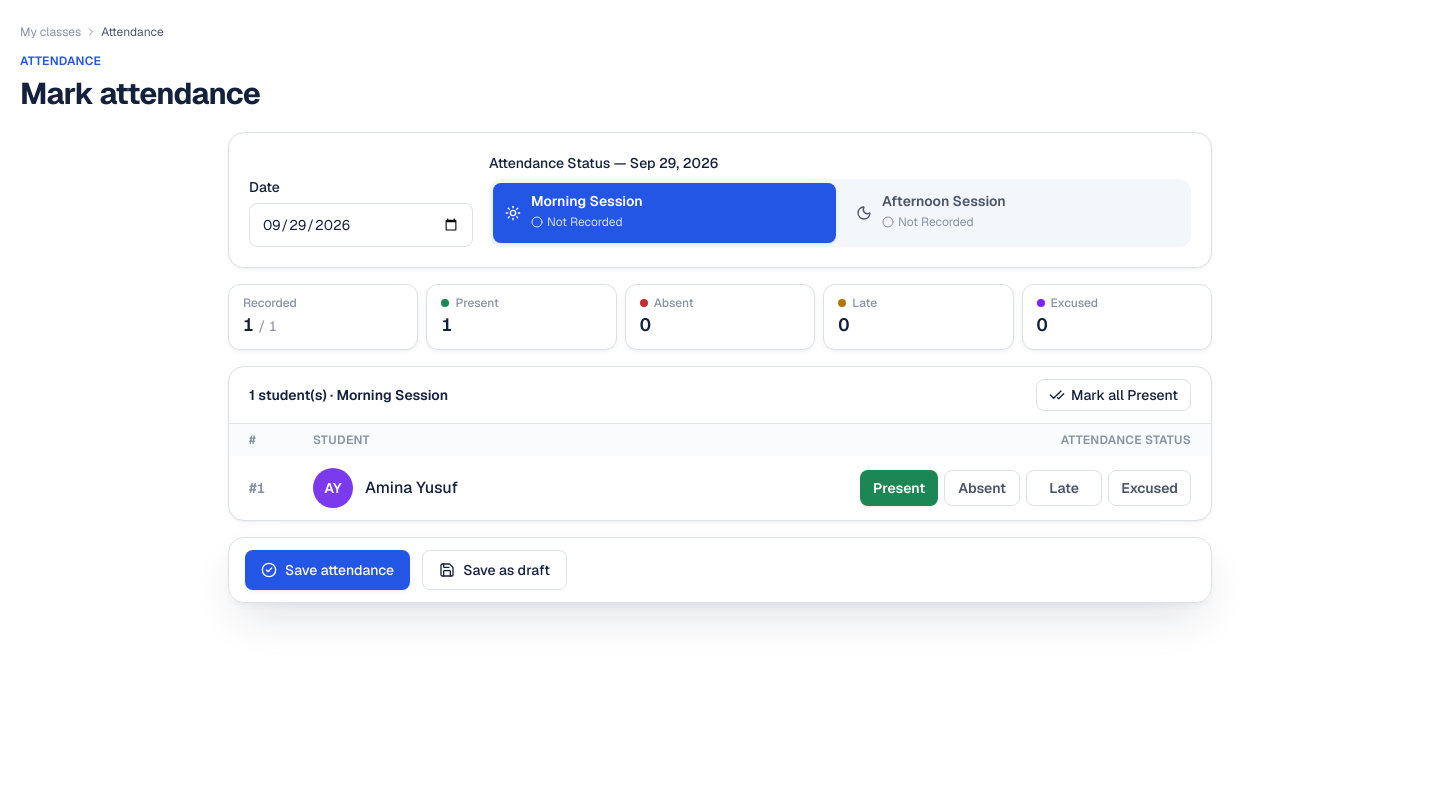
Test case: AttendancePage — session selection › switching sessions while dirty goes through the same unsaved-changes dialog as changing date
This screenshot has width=1440, height=810.
Expected: the text "Yusuf" is shown, [416, 477, 458, 498]
Click the button "Absent" at (982, 488), box [944, 470, 1020, 506]
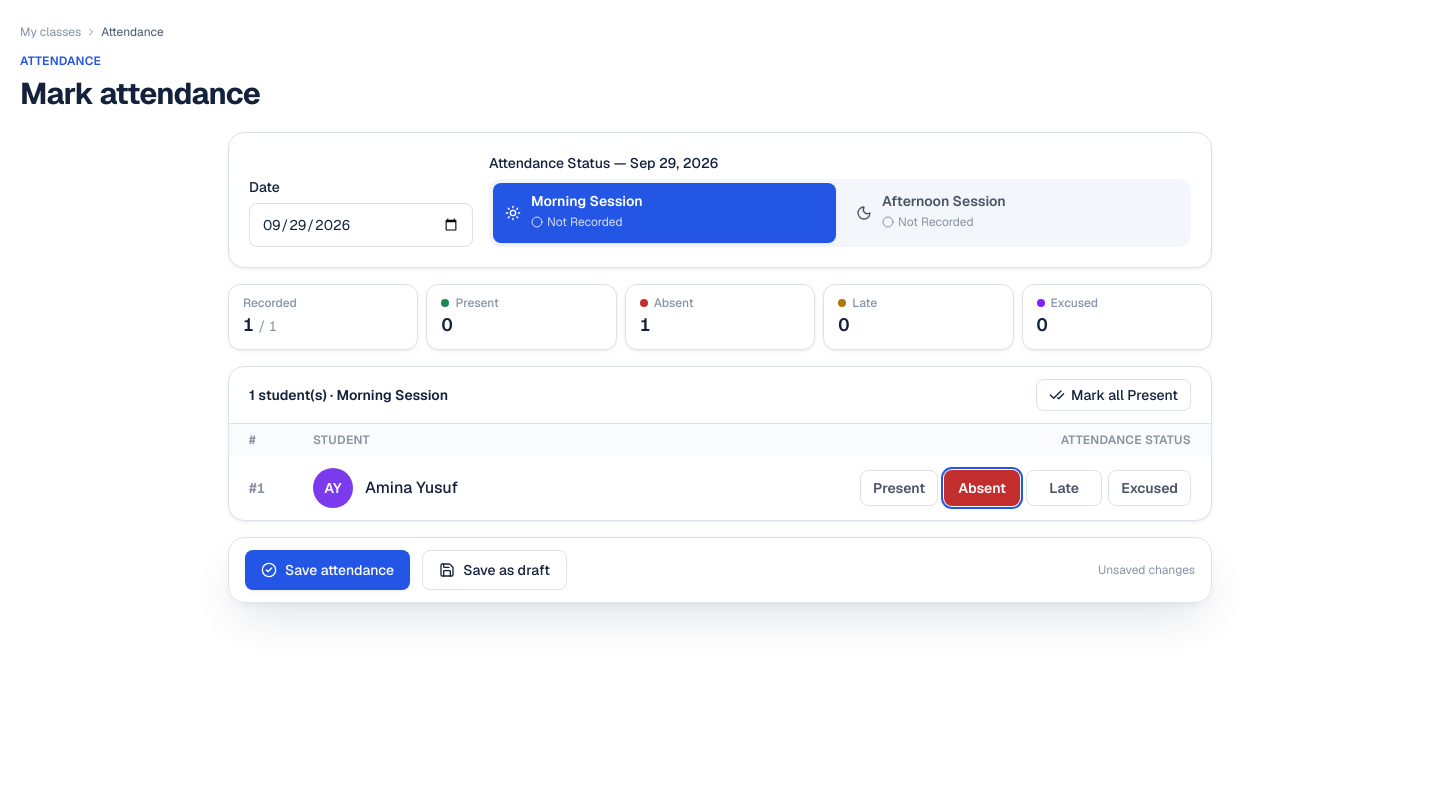
Click the radio button labelled "Afternoon Session" at (944, 201), box [844, 183, 1187, 243]
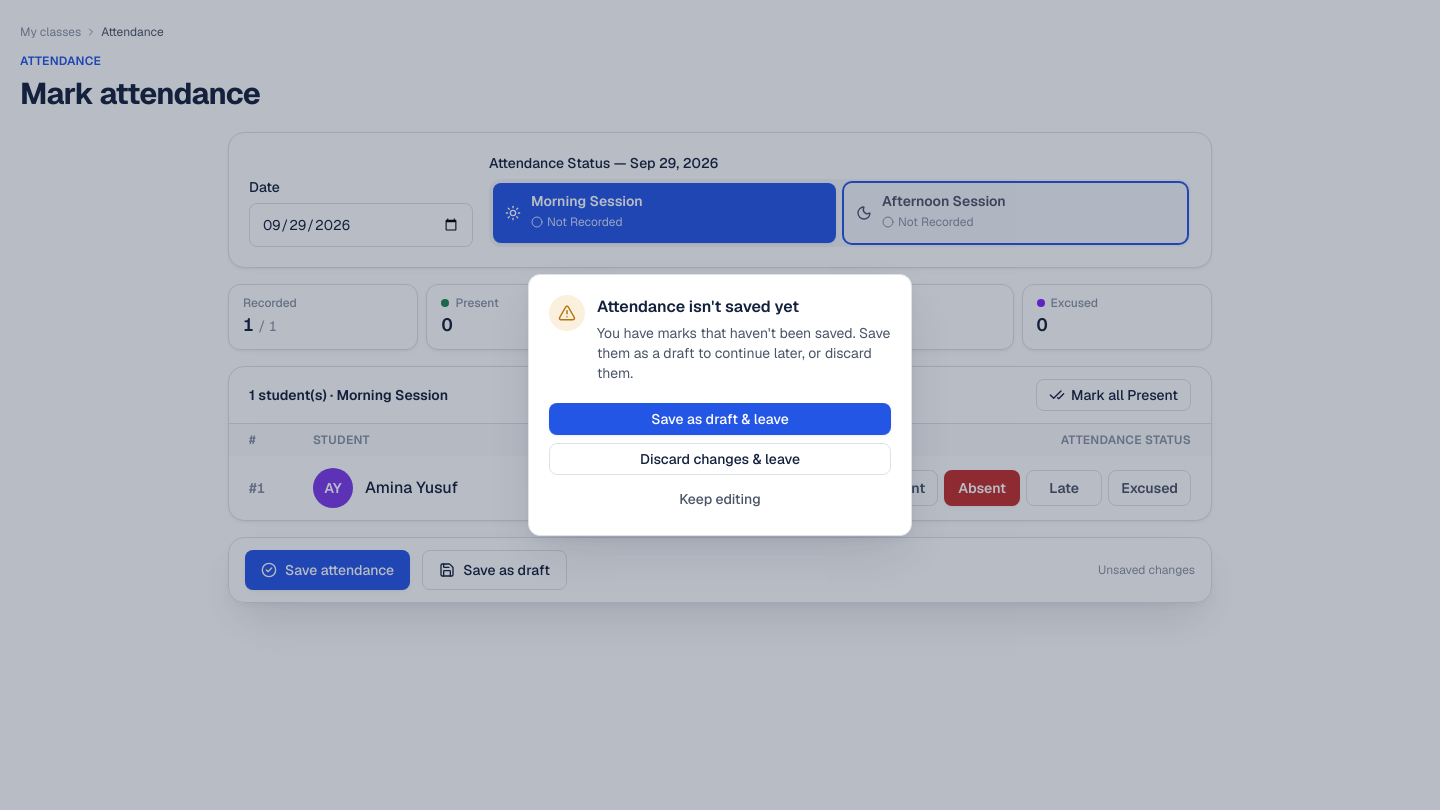
Result: the dialog is shown at [528, 274, 912, 536]
